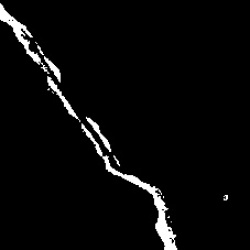crack: (1, 4, 176, 248)
pinhole: (223, 195, 227, 201)
